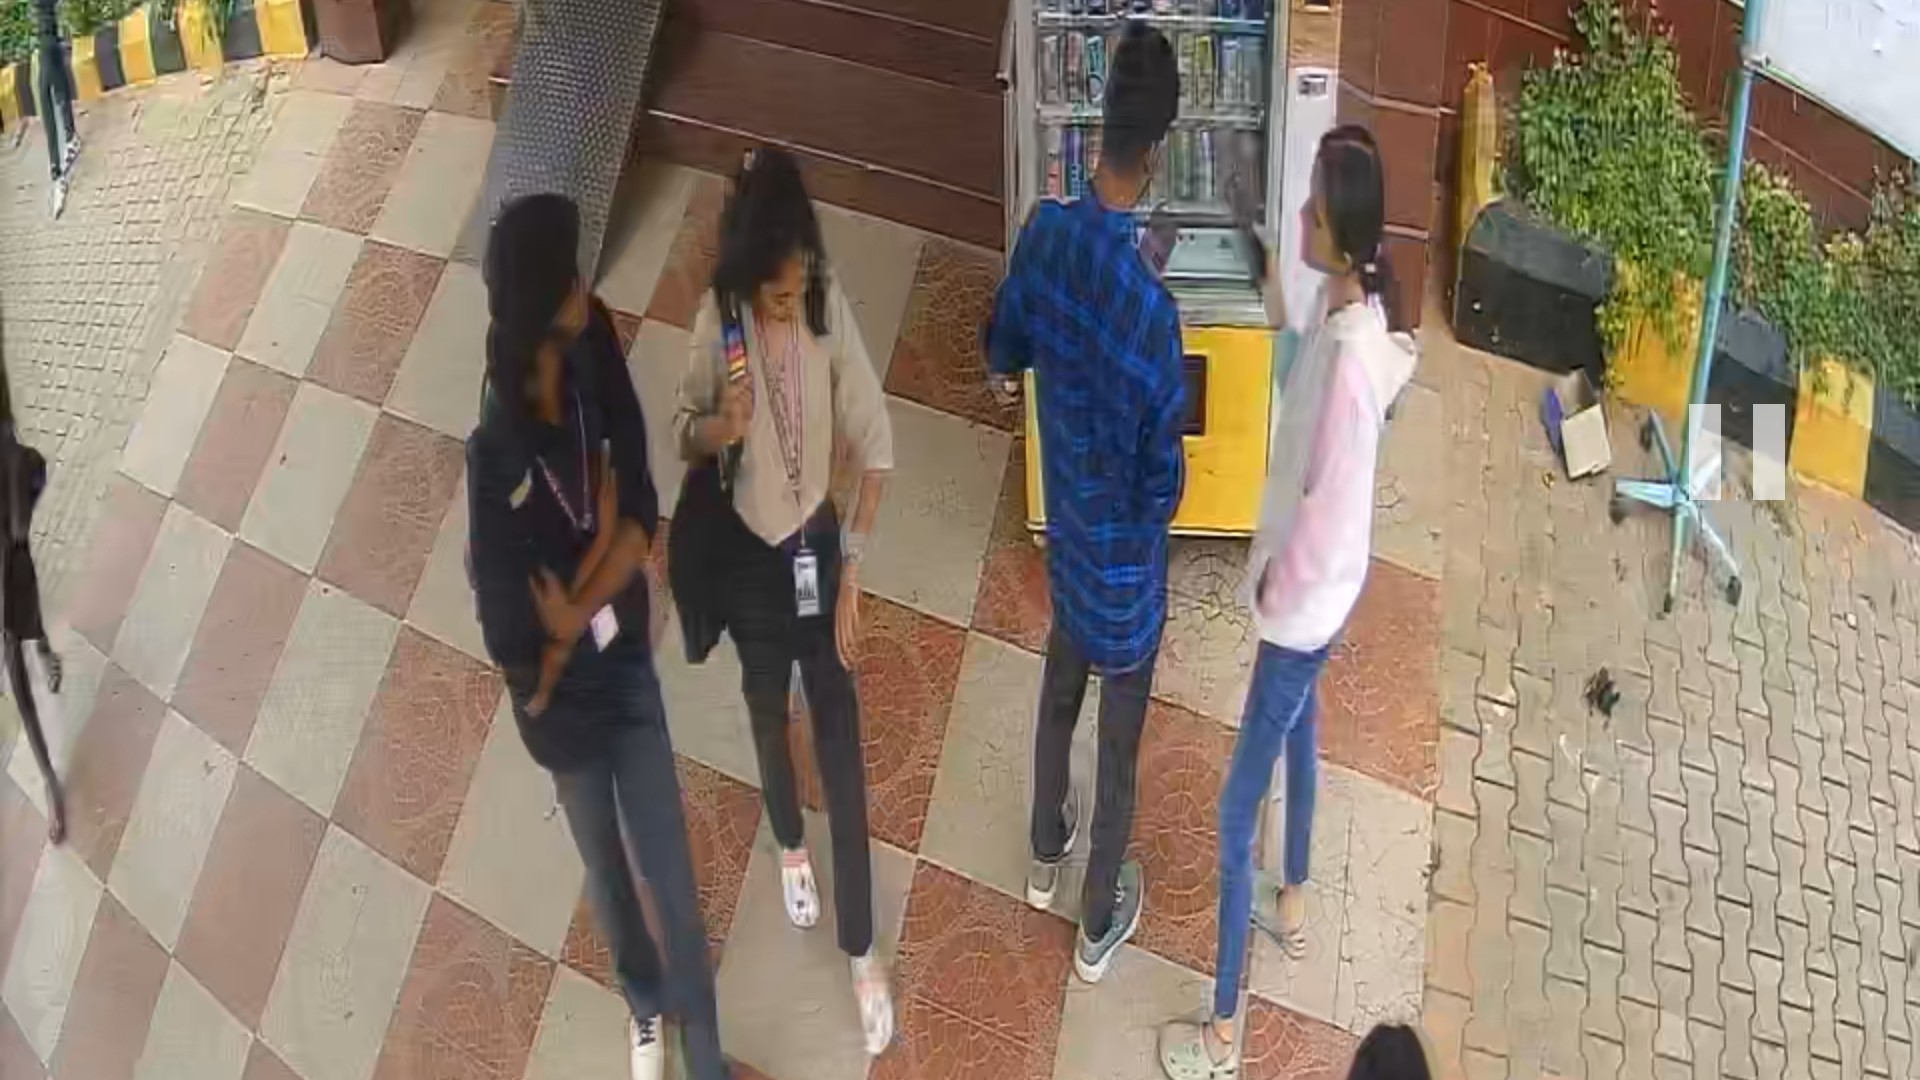not intruder: (454, 182, 736, 1080), (671, 121, 919, 1044)
